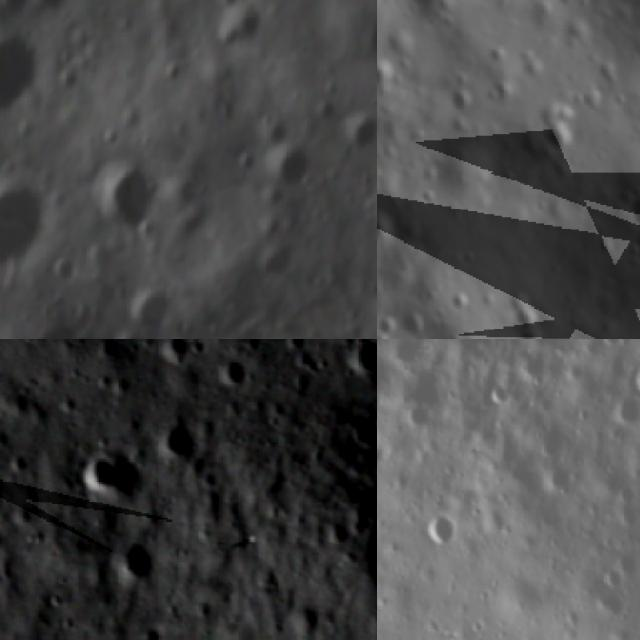crater: (426, 133, 493, 206), (0, 180, 53, 263), (102, 160, 156, 240), (80, 445, 142, 508), (0, 30, 42, 104), (108, 541, 161, 595), (530, 106, 580, 158), (156, 415, 202, 467), (134, 280, 180, 326), (276, 146, 320, 192), (380, 22, 422, 63), (421, 503, 458, 548), (602, 388, 640, 429), (151, 339, 199, 371), (216, 355, 256, 393), (344, 339, 377, 384), (399, 396, 436, 434), (441, 82, 475, 119), (514, 51, 548, 88), (393, 303, 427, 339), (480, 74, 514, 110), (512, 299, 544, 335), (349, 112, 377, 153), (392, 0, 452, 19), (54, 250, 79, 293), (191, 466, 224, 496), (233, 147, 261, 180), (622, 191, 640, 238), (444, 285, 470, 316), (377, 207, 394, 254), (377, 307, 400, 339), (377, 55, 395, 95), (622, 235, 640, 275), (162, 61, 192, 84), (62, 71, 88, 93), (0, 470, 10, 521), (34, 0, 80, 9), (629, 356, 640, 393), (610, 87, 628, 109)
